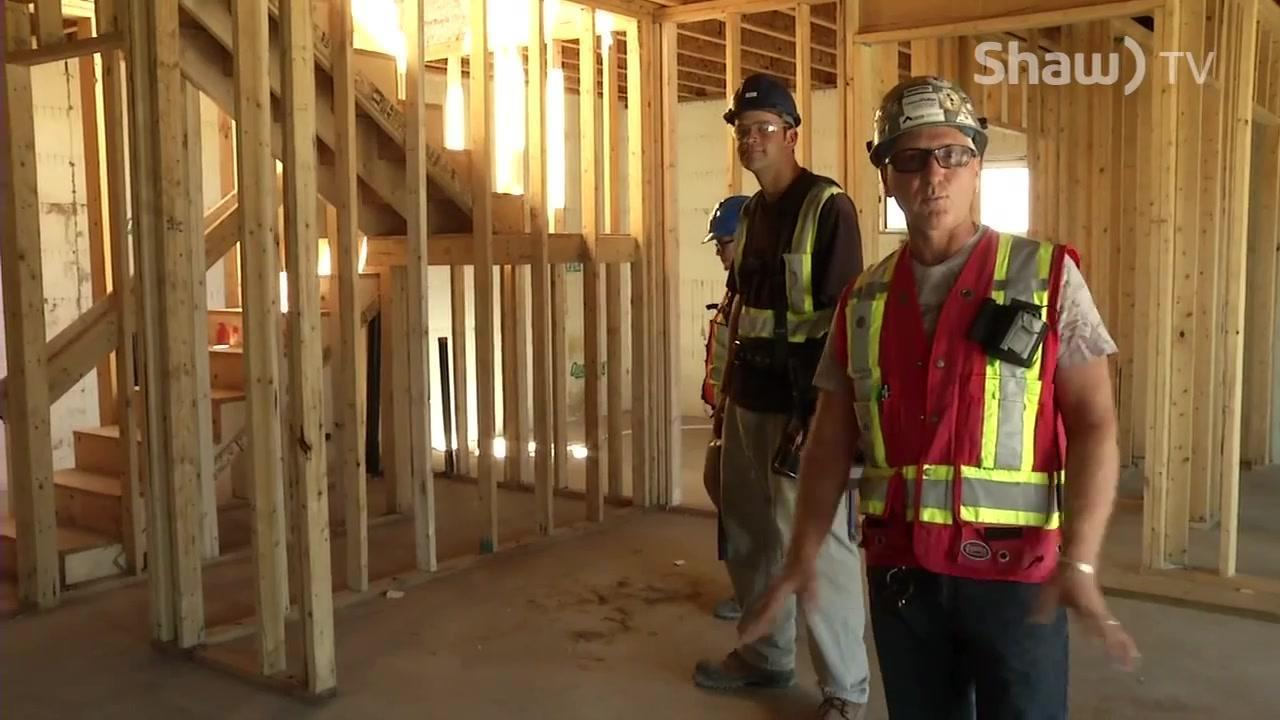vest: (851, 236, 1068, 531), (733, 183, 864, 344), (698, 270, 737, 404)
